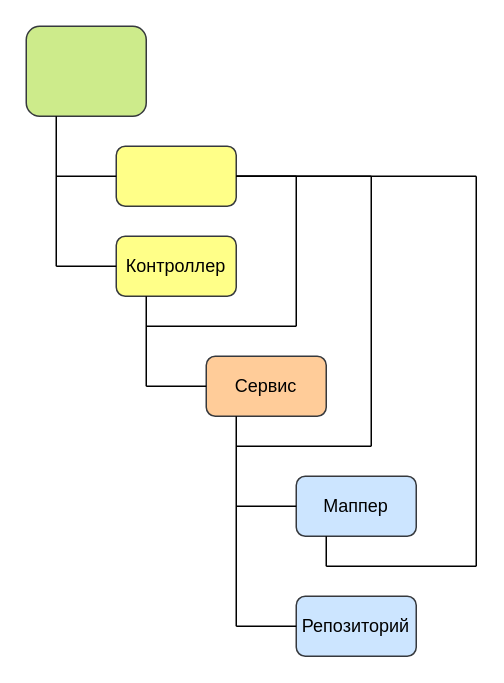
Some shapes in this 504 by 683 pixel diagram are drawn without their labels. Here are the shapes that lost their labels. From the top down, the box of each, then its label:
(25, 25, 146, 116): Сервер для статистики
(115, 145, 236, 206): Общие компоненты
